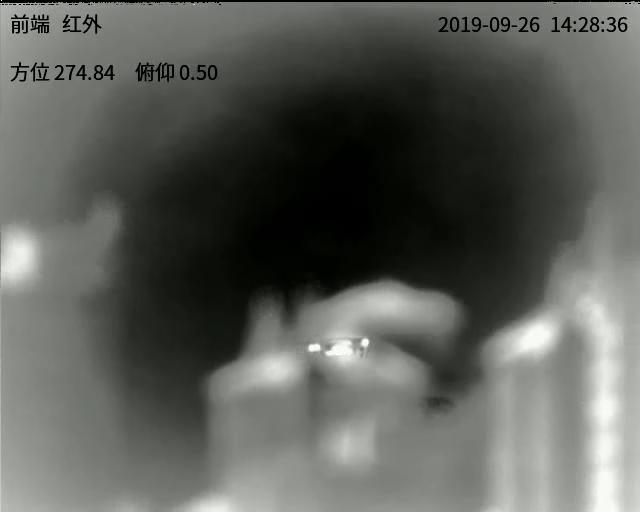uav: (292, 332, 379, 358)
